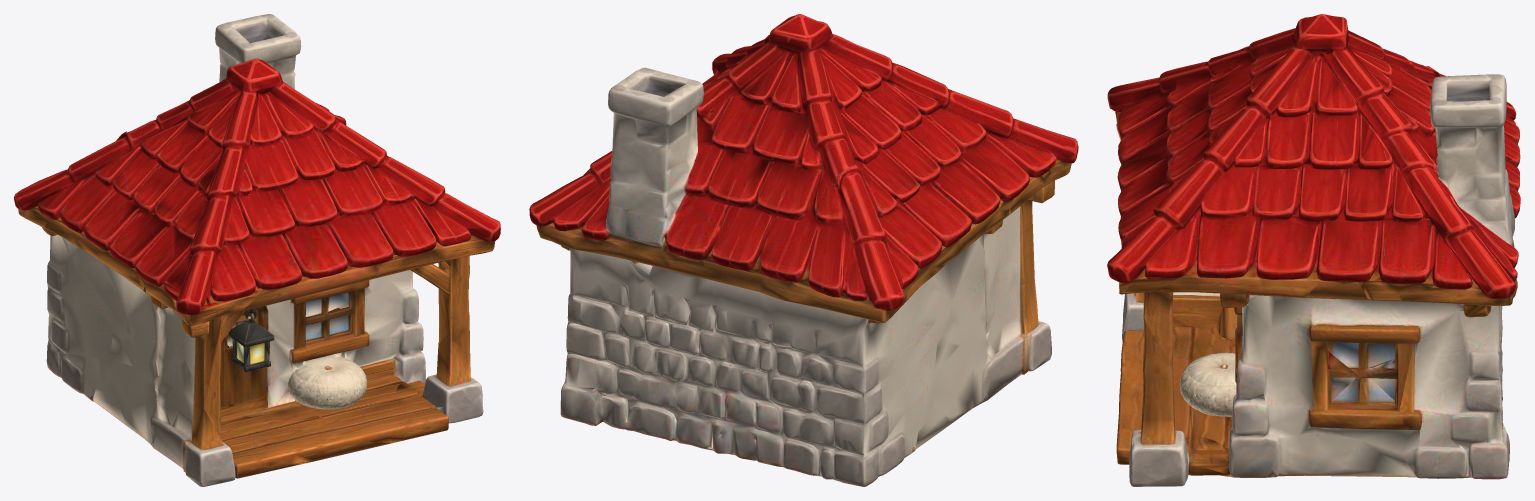
Rendered from red_hip_cottage_2.glb.
3 views of the same model, side by side, from view 1: azimuth 30°, elevation 25°; view 2: azimuth 150°, elevation 25°; view 3: azimuth 270°, elevation 25° (orthographic). The views are drawn at different scales.
Parts seen in each view (by area): view 1: red_hip_cottage_2; view 2: red_hip_cottage_2; view 3: red_hip_cottage_2.
Part boxes in pixels (x1,y1,x2,y2): red_hip_cottage_2: [14, 14, 500, 486]; red_hip_cottage_2: [529, 14, 1078, 486]; red_hip_cottage_2: [1107, 14, 1520, 486].
Size of the model in its own units: 2.48 by 2.4 by 2.31.
Materials: 1 (1 with a texture image).
